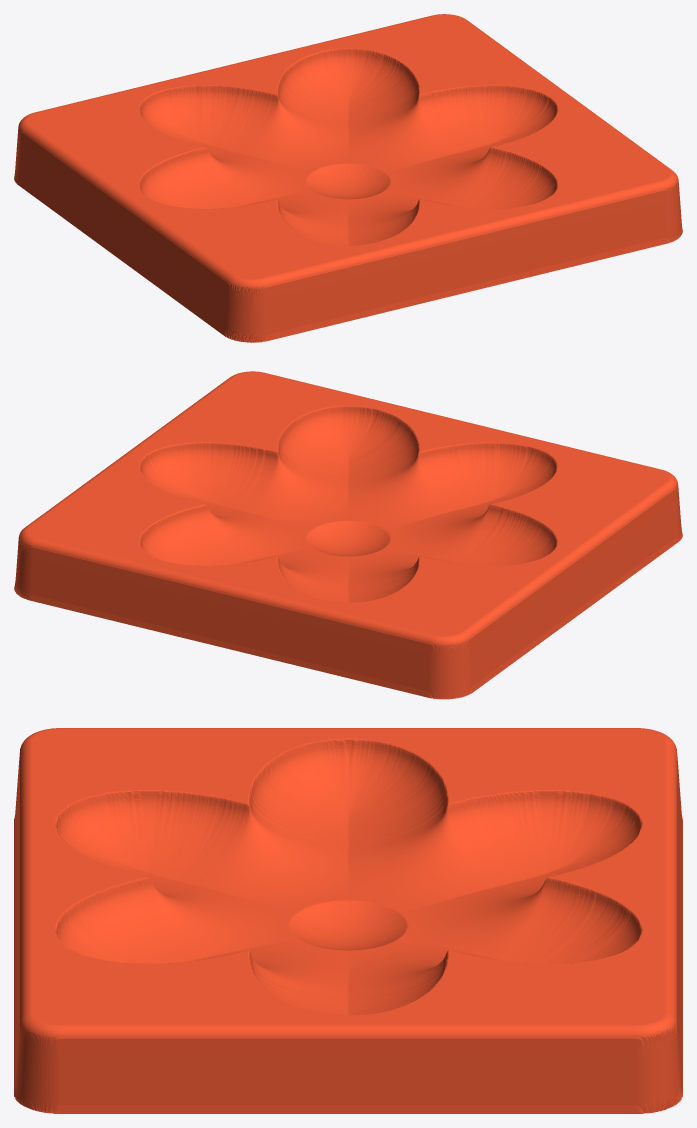
Rendered from mold.glb.
3 renders of one model, top to bottom at view 1: azimuth 30°, elevation 25°; view 2: azimuth 150°, elevation 25°; view 3: azimuth 270°, elevation 25°, orthographic. The views are drawn at different scales.
Visible parts, largest first — view 1: geometry_0; view 2: geometry_0; view 3: geometry_0.
Part boxes in pixels (x1=…): geometry_0: x1=14, y1=14, x2=682, y2=342; geometry_0: x1=14, y1=371, x2=682, y2=699; geometry_0: x1=14, y1=728, x2=682, y2=1113.
Size of the model in its own units: 0.1435 by 0.0175 by 0.1303.
